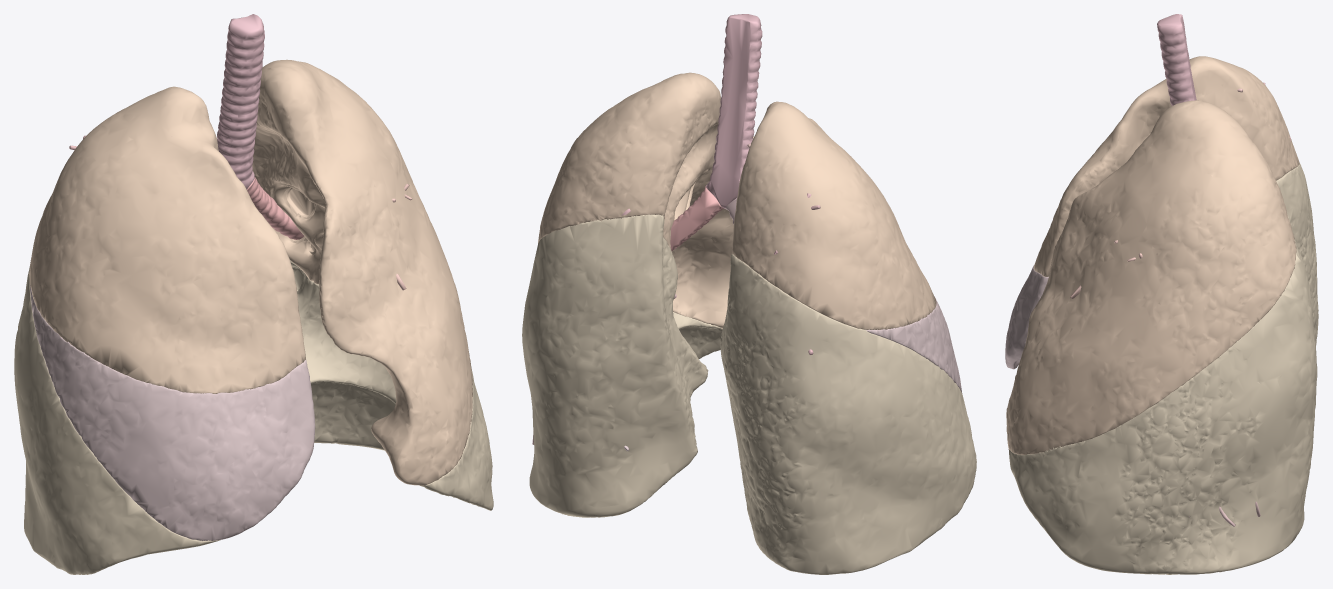
File: body-respiratory.lod1.glb
3 renders of one model, left to right at view 1: azimuth 30°, elevation 25°; view 2: azimuth 150°, elevation 25°; view 3: azimuth 270°, elevation 25°, orthographic. The views are drawn at different scales.
Visible parts, largest first — view 1: upper-lobe-of-lung-r, upper-lobe-of-lung-l, middle-lobe-of-lung-r, lower-lobe-of-lung-r, lower-lobe-of-lung-l, trachea, main-bronchus-l; view 2: lower-lobe-of-lung-r, lower-lobe-of-lung-l, upper-lobe-of-lung-r, upper-lobe-of-lung-l, trachea, middle-lobe-of-lung-r, main-bronchus-l; view 3: upper-lobe-of-lung-l, lower-lobe-of-lung-l, upper-lobe-of-lung-r, lower-lobe-of-lung-r, trachea, middle-lobe-of-lung-r.
Boxes of the visible parts, x1,y1,x2,y2 form: upper-lobe-of-lung-r: (29,86,305,393); upper-lobe-of-lung-l: (252,59,472,485); middle-lobe-of-lung-r: (30,285,315,541); lower-lobe-of-lung-r: (14,260,220,574); lower-lobe-of-lung-l: (290,260,493,510); trachea: (217,14,264,189); main-bronchus-l: (247,177,303,239); lower-lobe-of-lung-r: (720,254,976,574); lower-lobe-of-lung-l: (522,214,722,517); upper-lobe-of-lung-r: (732,101,936,329); upper-lobe-of-lung-l: (538,72,753,328); trachea: (706,14,762,208); middle-lobe-of-lung-r: (865,296,962,393); main-bronchus-l: (670,186,723,250); upper-lobe-of-lung-l: (1006,100,1296,454); lower-lobe-of-lung-l: (1008,240,1317,574); upper-lobe-of-lung-r: (1033,56,1299,276); lower-lobe-of-lung-r: (1276,164,1318,345); trachea: (1157,14,1196,105); middle-lobe-of-lung-r: (1005,265,1048,369).
Bounding box in the file's own units: 0.2534 × 0.2979 × 0.181.
